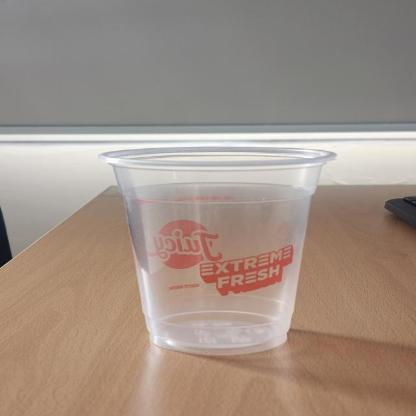Plastic Cup: (96, 145, 340, 357)
